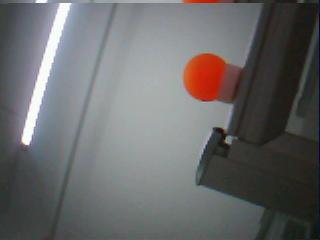oball: (184, 53, 225, 102)
